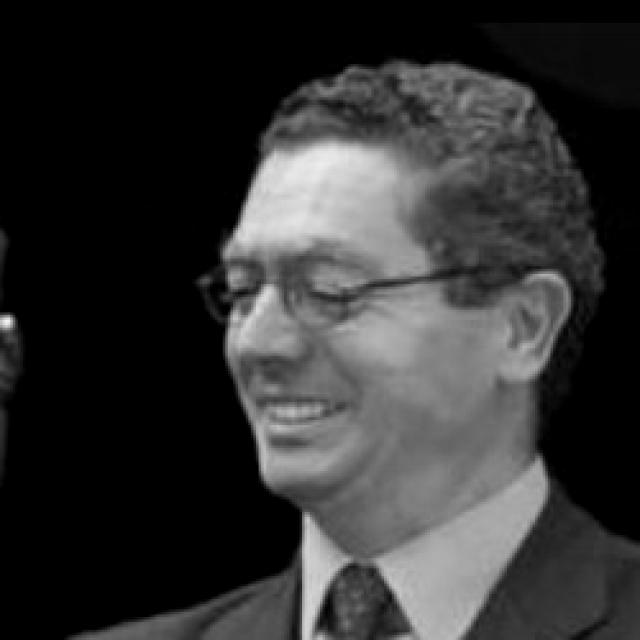real: (218, 129, 554, 501), (231, 250, 367, 334)
